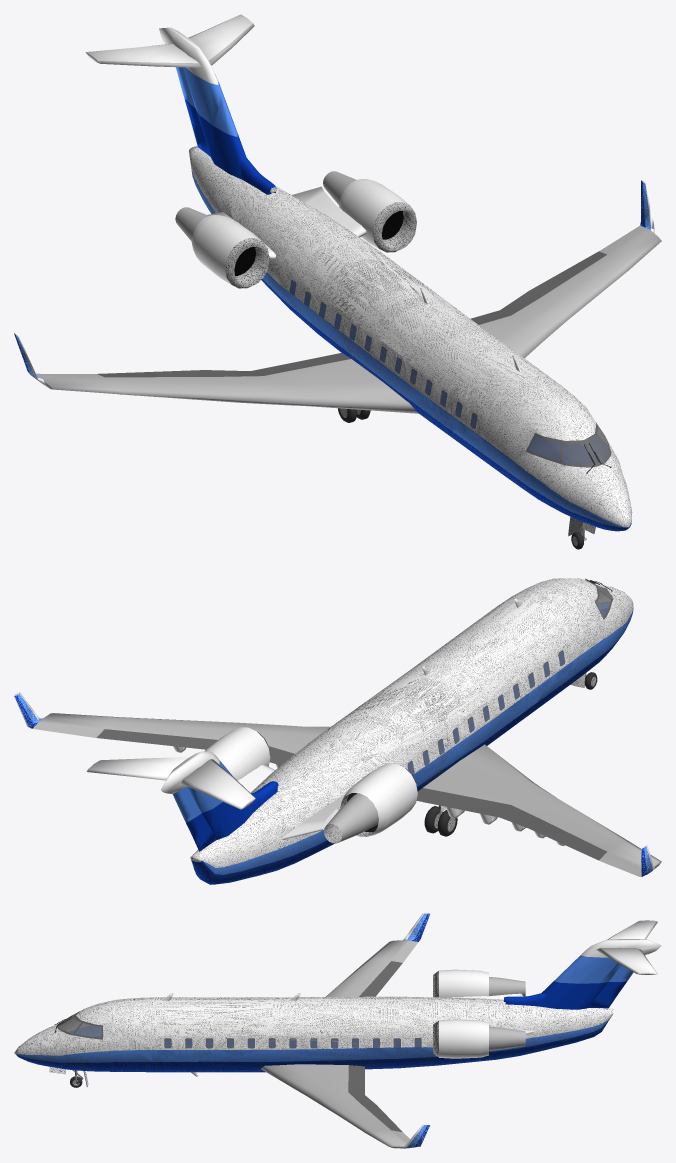
The picture shows the model from 3 angles, top to bottom: view 1: azimuth 30°, elevation 25°; view 2: azimuth 150°, elevation 25°; view 3: azimuth 270°, elevation 25°; orthographic projection. The views are drawn at different scales.
Visible parts, largest first — view 1: group_4 (×3), group_12 (×4), group_19 (×4), group_0 (×3), group_14 (×2), Group_12 (×2), group_20; view 2: group_4 (×3), group_12 (×2), group_19 (×3), group_14 (×2), Group_12 (×2), group_0 (×3), group_20 (×2), group_2 (×2); view 3: group_4 (×3), group_12 (×3), group_19 (×4), group_0 (×3), group_14 (×2), Group_12 (×2), group_2, group_1.
Boxes of the visible parts, x1=… form: group_4 (×3): x1=189, y1=146, x2=632, y2=531; group_12 (×4): x1=36, y1=225, x2=661, y2=413; group_19 (×4): x1=191, y1=179, x2=416, y2=288; group_0 (×3): x1=159, y1=27, x2=246, y2=179; group_14 (×2): x1=97, y1=251, x2=606, y2=377; Group_12 (×2): x1=85, y1=14, x2=252, y2=65; group_20: x1=292, y1=186, x2=366, y2=237; group_4 (×3): x1=190, y1=578, x2=633, y2=884; group_12 (×2): x1=32, y1=713, x2=661, y2=876; group_19 (×3): x1=204, y1=727, x2=417, y2=843; group_14 (×2): x1=96, y1=729, x2=606, y2=860; Group_12 (×2): x1=86, y1=757, x2=255, y2=809; group_0 (×3): x1=161, y1=751, x2=253, y2=839; group_20 (×2): x1=238, y1=764, x2=345, y2=839; group_2 (×2): x1=173, y1=786, x2=216, y2=851; group_4 (×3): x1=14, y1=996, x2=613, y2=1072; group_12 (×3): x1=261, y1=940, x2=418, y2=1148; group_19 (×4): x1=439, y1=969, x2=525, y2=1058; group_0 (×3): x1=537, y1=939, x2=661, y2=1009; group_14 (×2): x1=348, y1=961, x2=402, y2=1131; Group_12 (×2): x1=600, y1=920, x2=657, y2=974; group_2: x1=588, y1=981, x2=626, y2=1008; group_1: x1=504, y1=993, x2=546, y2=1006.
Size of the model in its own units: 837 by 1084 by 276.
